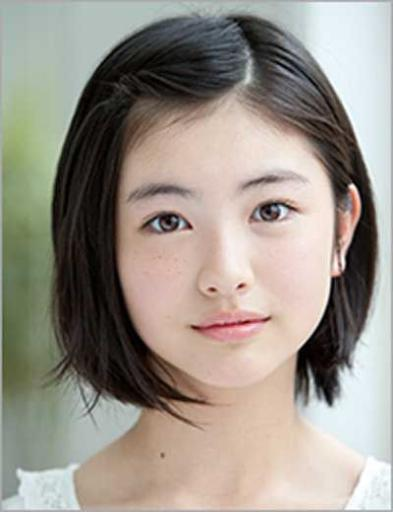left_eye: (248, 200, 304, 229)
left_lip_corner: (261, 312, 278, 331)
right_eye: (139, 211, 196, 240)
right_lip_corner: (187, 320, 206, 338)
